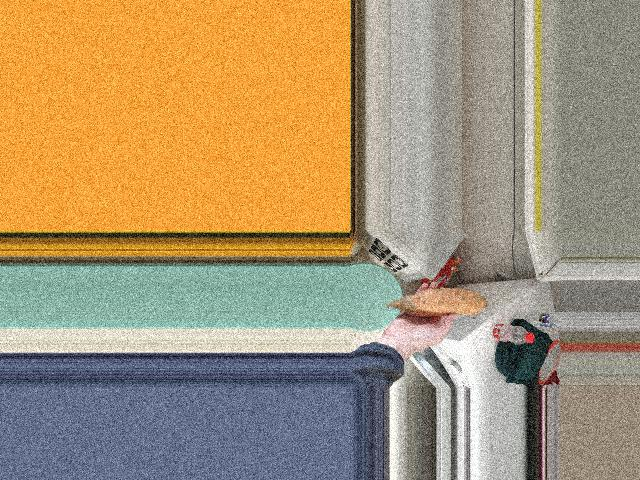sweet_potato: (407, 292, 475, 323)
